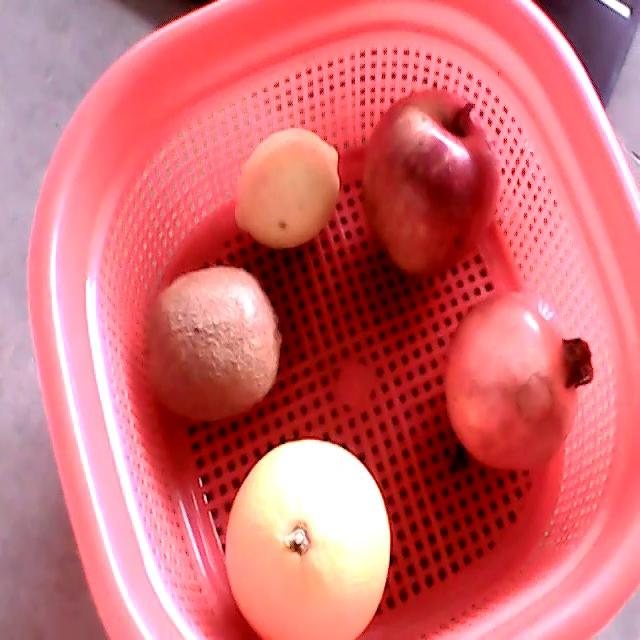apple: (361, 88, 503, 277)
kiwi: (147, 267, 281, 420)
lemon: (233, 128, 341, 250)
orange: (223, 439, 389, 639)
pomegranate: (443, 290, 594, 472)
